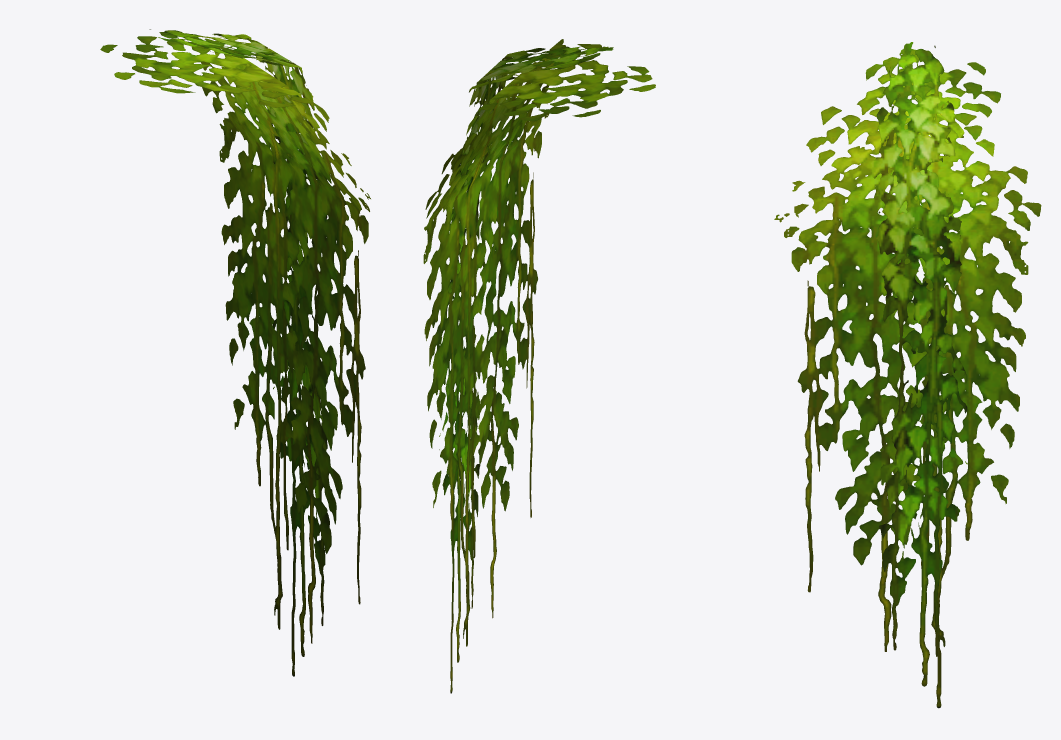
The model's file is zc_grass_b.FBX.
3 renders of one model, left to right at view 1: azimuth 30°, elevation 25°; view 2: azimuth 150°, elevation 25°; view 3: azimuth 270°, elevation 25°, orthographic. The views are drawn at different scales.
Visible parts, largest first — view 1: zc_grass_b_01, zc_grass_b_02; view 2: zc_grass_b_01, zc_grass_b_02; view 3: zc_grass_b_01, zc_grass_b_02.
Part boxes in pixels (bbox=[...]): zc_grass_b_01: bbox=[100, 36, 370, 643]; zc_grass_b_02: bbox=[149, 29, 332, 676]; zc_grass_b_01: bbox=[423, 39, 655, 646]; zc_grass_b_02: bbox=[439, 45, 613, 693]; zc_grass_b_01: bbox=[774, 49, 1041, 656]; zc_grass_b_02: bbox=[870, 42, 967, 708].
Size of the model in its own units: 94.61 by 287 by 115.
